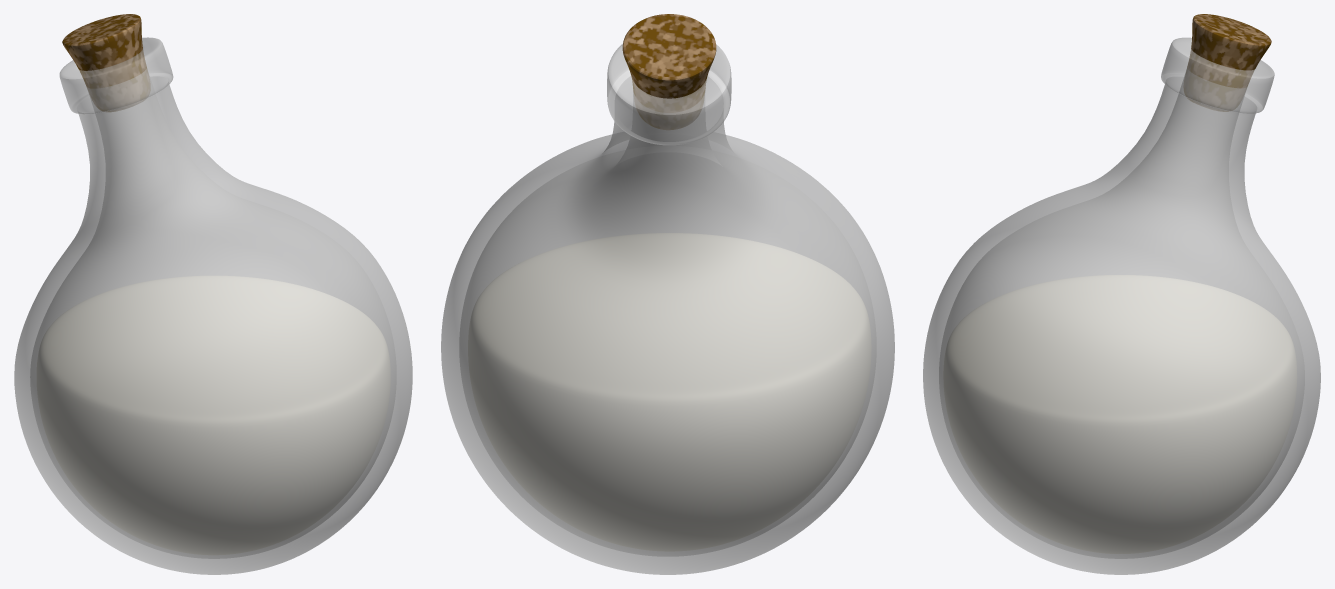
The model's file is light.fbx.
The picture shows the model from 3 angles, left to right: view 1: azimuth 30°, elevation 25°; view 2: azimuth 150°, elevation 25°; view 3: azimuth 270°, elevation 25°; orthographic projection. The views are drawn at different scales.
Parts seen in each view (by area): view 1: bottle; view 2: bottle; view 3: bottle.
Boxes of the visible parts, x1,y1,x2,y2 form: bottle: (14, 14, 412, 574); bottle: (441, 14, 894, 574); bottle: (923, 14, 1320, 574).
Bounding box in the file's own units: 169 × 240 × 169.
3 materials, 1 textured.
